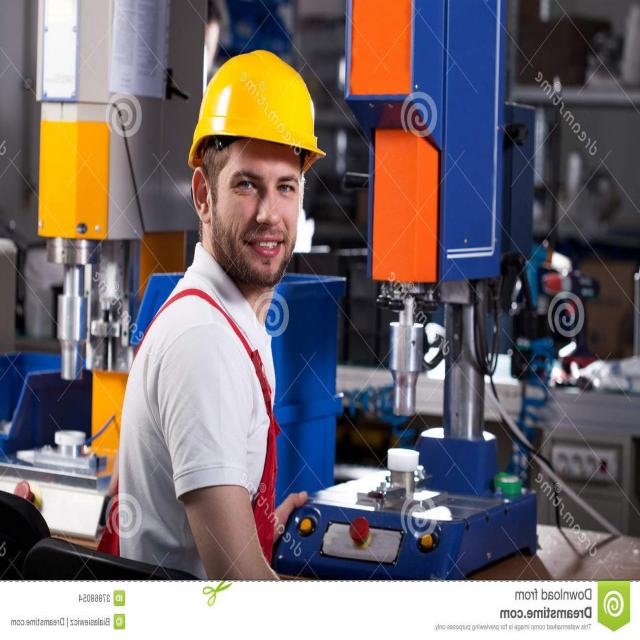Safety-Helmet: (187, 48, 324, 167)
